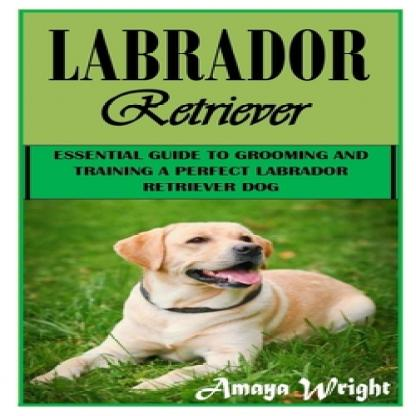Labarador Retriever: (32, 218, 382, 392)
